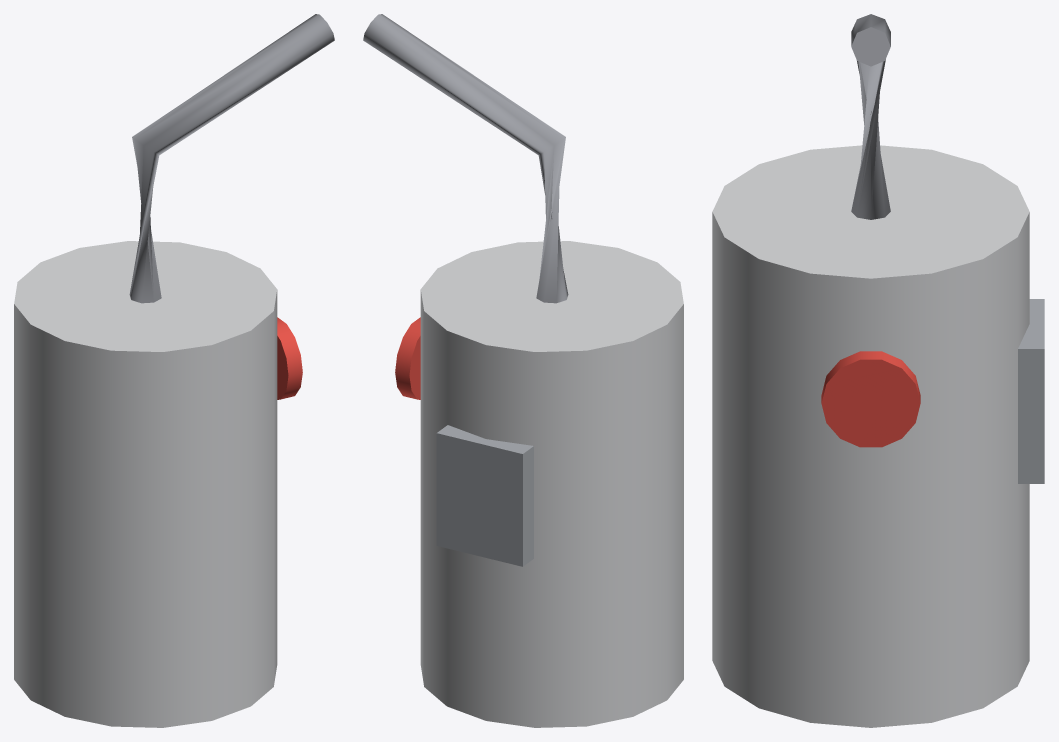
Rendered from steam_generator.glb.
3 views of the same model, side by side, from view 1: azimuth 30°, elevation 25°; view 2: azimuth 150°, elevation 25°; view 3: azimuth 270°, elevation 25° (orthographic). The views are drawn at different scales.
Visible parts, largest first — view 1: steam_generator; view 2: steam_generator; view 3: steam_generator.
Boxes of the visible parts, x1=… form: steam_generator: x1=14, y1=14, x2=334, y2=727; steam_generator: x1=363, y1=14, x2=683, y2=727; steam_generator: x1=712, y1=14, x2=1044, y2=727.
Bounding box in the file's own units: 0.8349 × 1.64 × 0.67.
